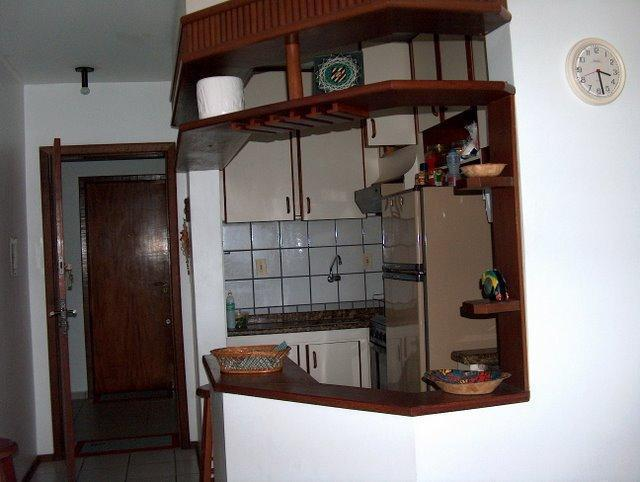Electrodomestico: (379, 195, 494, 386)
Puerta: (34, 139, 187, 462), (77, 173, 178, 396)
